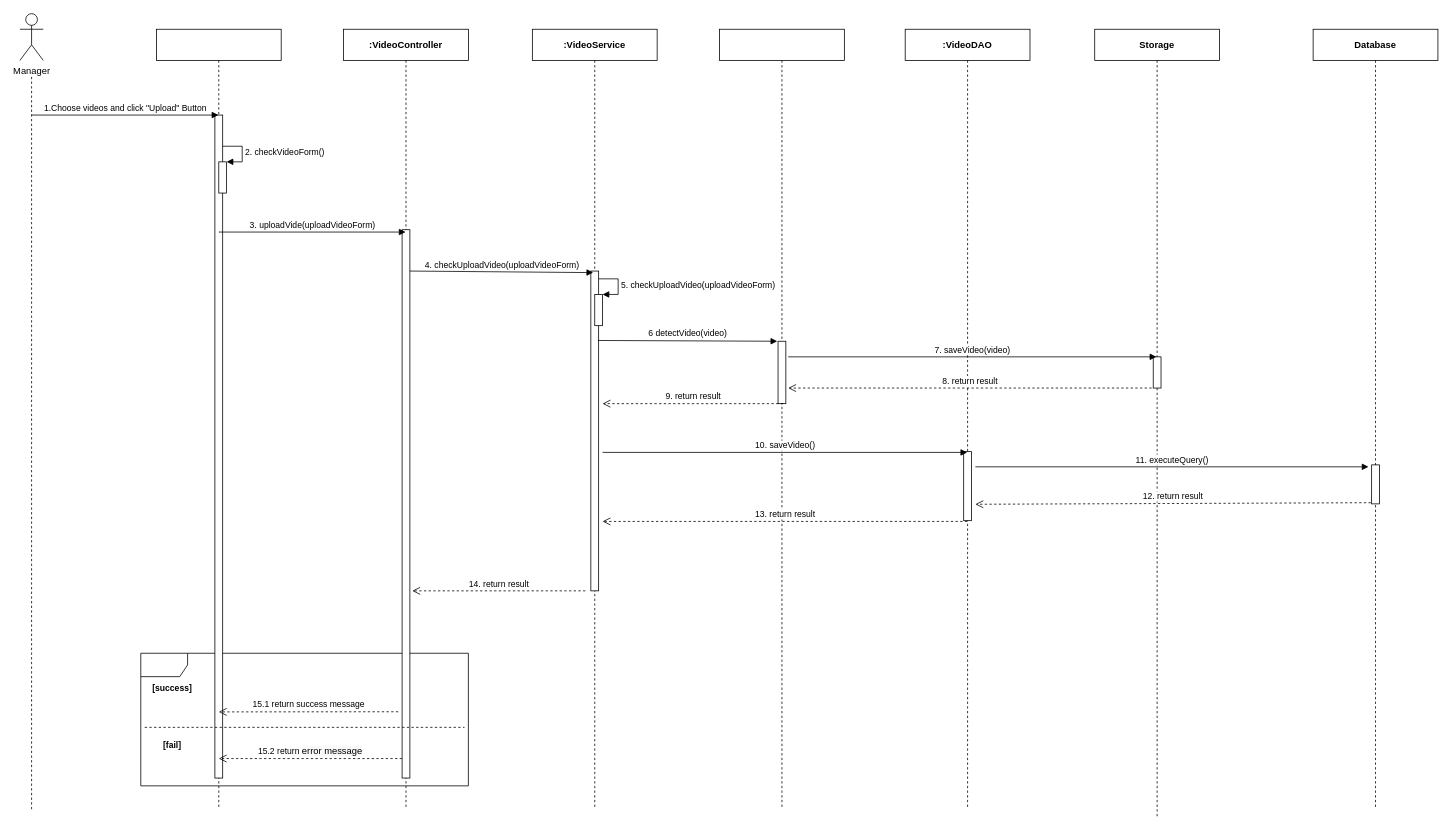
The diagram is 1452 pixels wide and 831 high, and some of its shapes have lost their labels. The box of each missing label's shape, as (x1, y1, x2, y2) in pixels:
:DetectService: (719, 28, 844, 809)
alt: (140, 652, 468, 786)
Browser: (156, 28, 281, 809)
